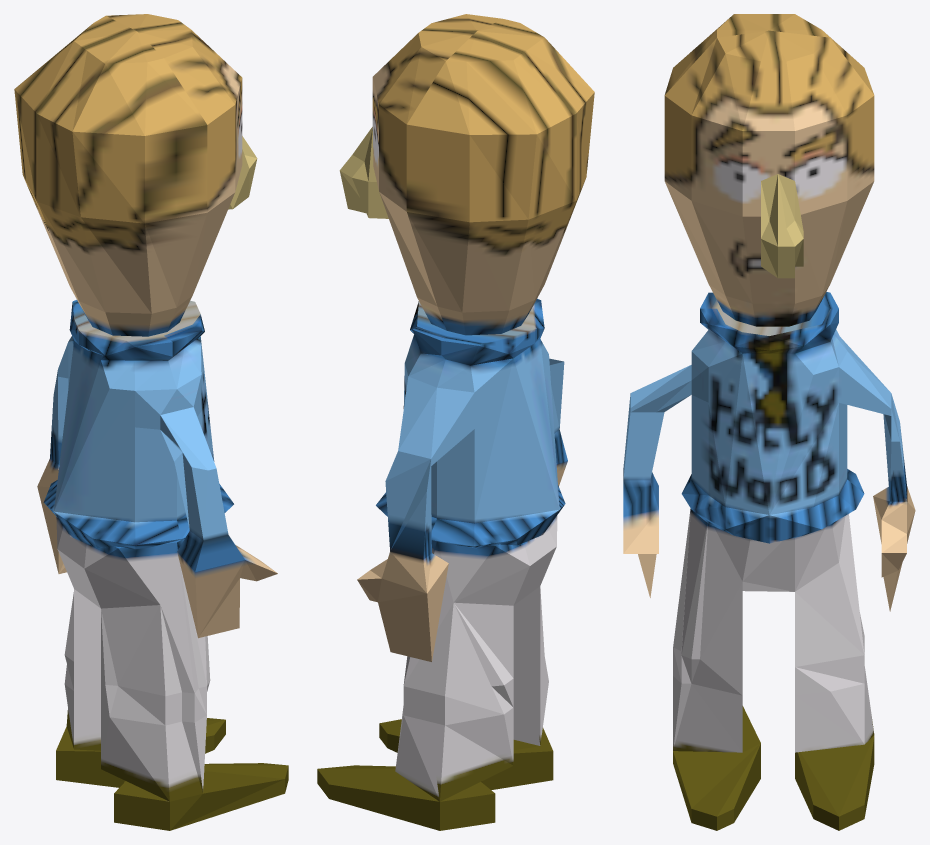
File: PipWin.glb
3 renders of one model, left to right at view 1: azimuth 30°, elevation 25°; view 2: azimuth 150°, elevation 25°; view 3: azimuth 270°, elevation 25°, orthographic. The views are drawn at different scales.
Visible parts, largest first — view 1: PipWin; view 2: PipWin; view 3: PipWin.
Part boxes in pixels (bbox=[...]): PipWin: bbox=[14, 14, 288, 830]; PipWin: bbox=[317, 14, 594, 830]; PipWin: bbox=[623, 14, 915, 830].
Size of the model in its own units: 35.4 by 116 by 40.9.
Materials: 1 (1 with a texture image).
